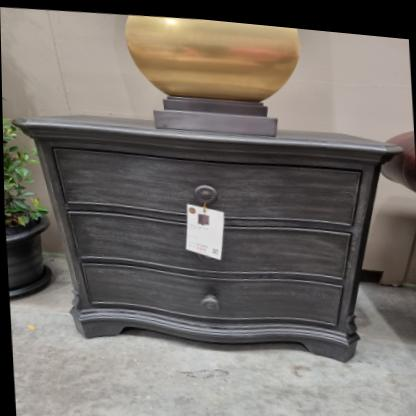Nightstand: (6, 85, 416, 379)
